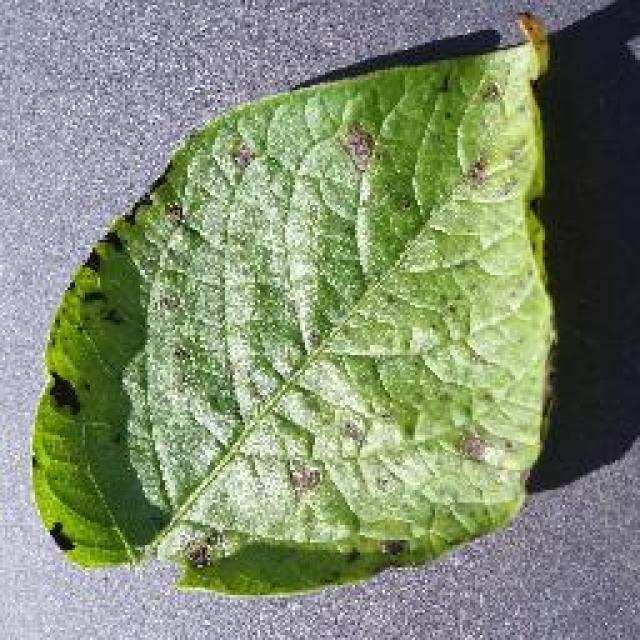early_blight: (25, 8, 563, 600)
